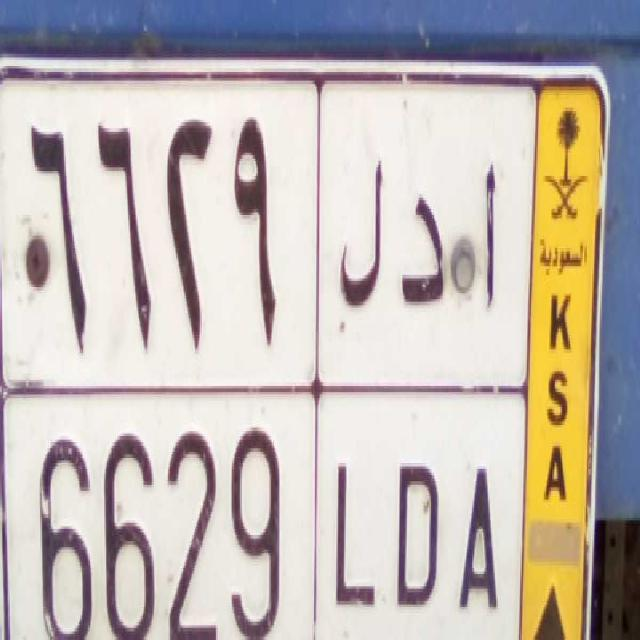license_plate: (0, 387, 524, 640)
